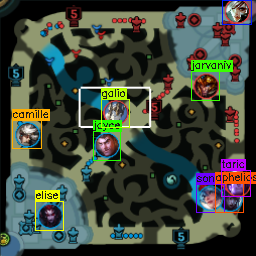aphelios: (218, 187, 242, 210)
camille: (15, 121, 40, 148)
elise: (38, 204, 61, 228)
galio: (101, 99, 128, 124)
jarvaniv: (192, 72, 218, 98)
jayce: (94, 132, 118, 157)
riven: (223, 1, 251, 23)
sona: (199, 185, 222, 209)
taric: (224, 171, 250, 195)
